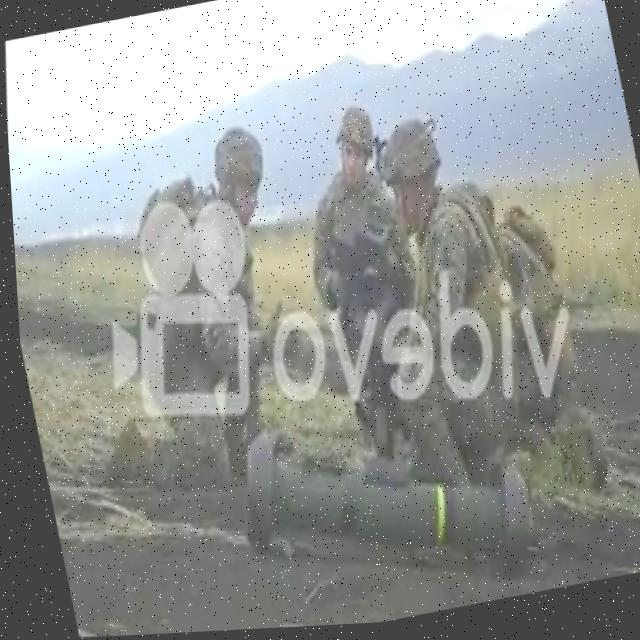rocket: (205, 382, 550, 632)
